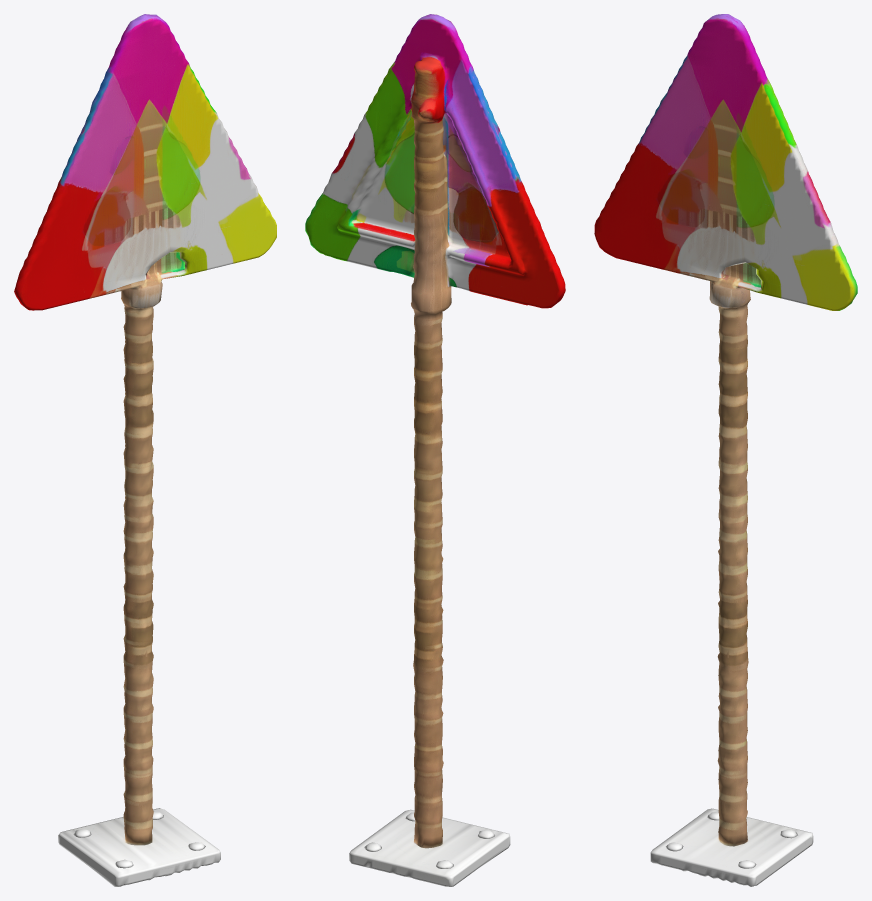
File: warning_beacon_sign.glb
3 renders of one model, left to right at view 1: azimuth 30°, elevation 25°; view 2: azimuth 150°, elevation 25°; view 3: azimuth 330°, elevation 25°, orthographic.
Parts seen in each view (by area): view 1: Mesh_0; view 2: Mesh_0; view 3: Mesh_0.
Boxes of the visible parts, x1,y1,x2,y2 form: Mesh_0: [14, 14, 276, 886]; Mesh_0: [305, 14, 565, 886]; Mesh_0: [594, 14, 857, 886].
Size of the model in its own units: 0.1934 by 0.6 by 0.0776.
1 material, 1 textured.
